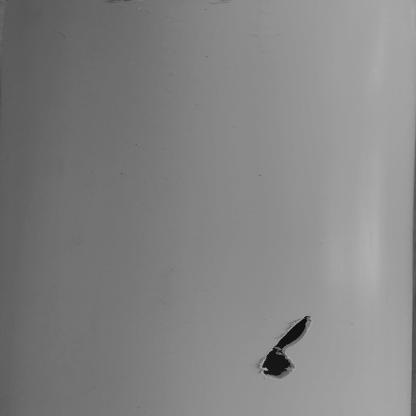kongdong: (260, 316, 318, 378)
